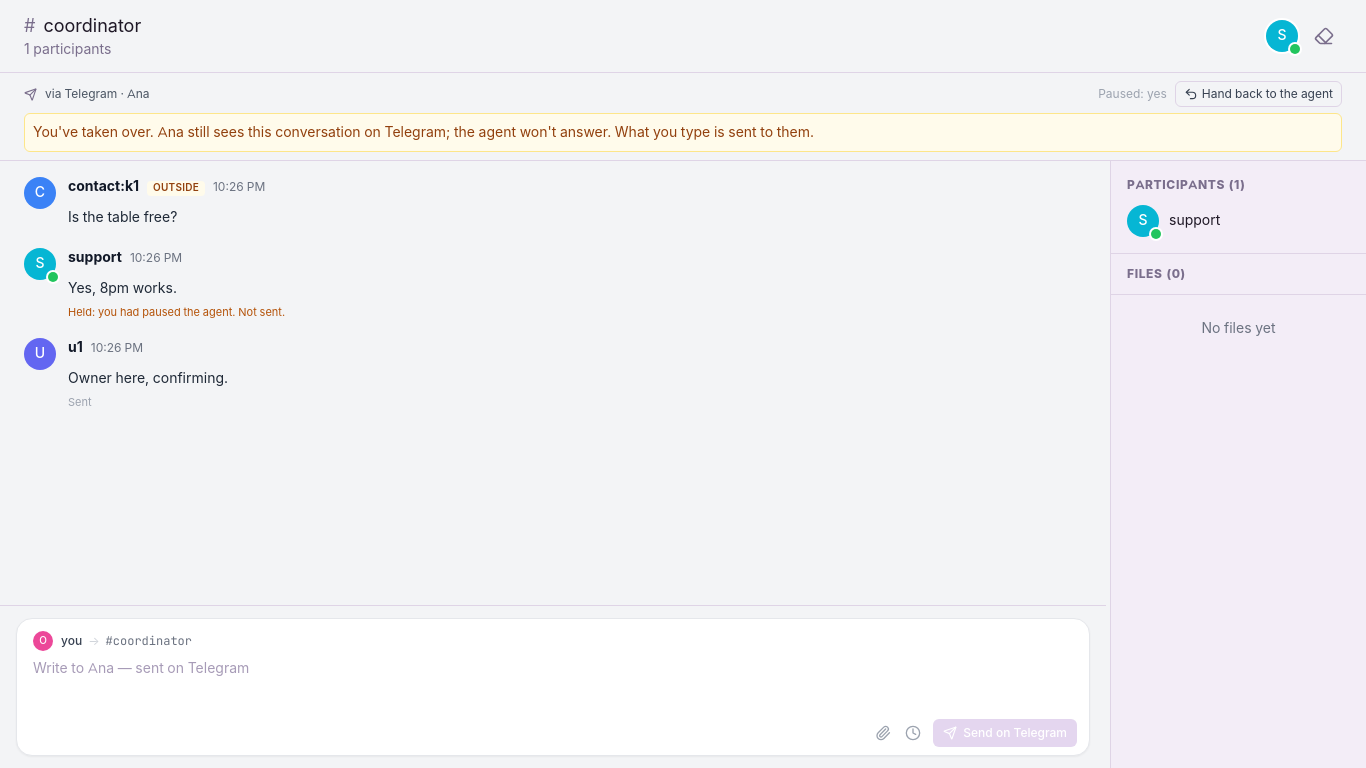
Test: a delivery line under each outgoing message › an agent reply held by the pause says so, and keeps saying so after Hand back
The image size is (1366, 768).
Check: the element with test id "delivery-line" reads "Held: you had paused the agent. Not sent.", box [68,305,285,320]
Click the button "Hand back to the agent": (1258, 94) [1175,81,1342,107]
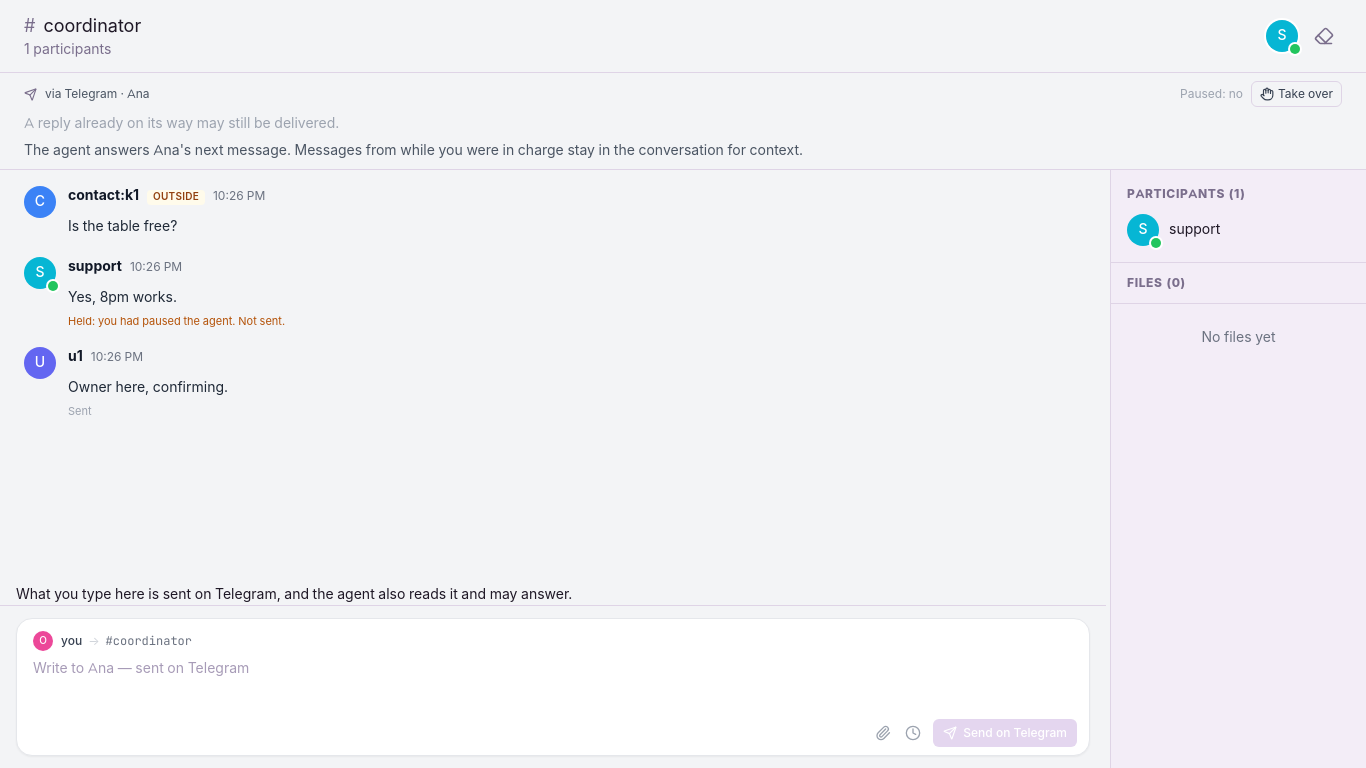
Check: the element with test id "delivery-line" reads "Held: you had paused the agent. Not sent.", box [68,314,285,329]
Check: the message with test id "channel-resume-note" is shown, box [24,141,803,160]
